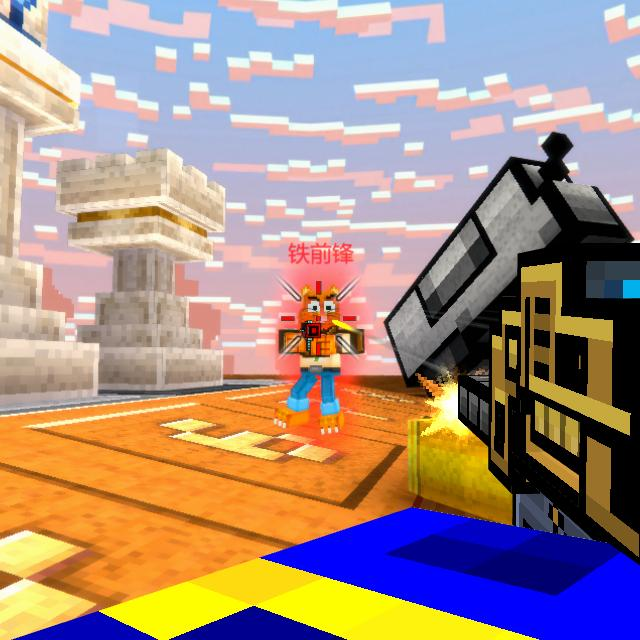Enemy: (274, 284, 364, 434)
